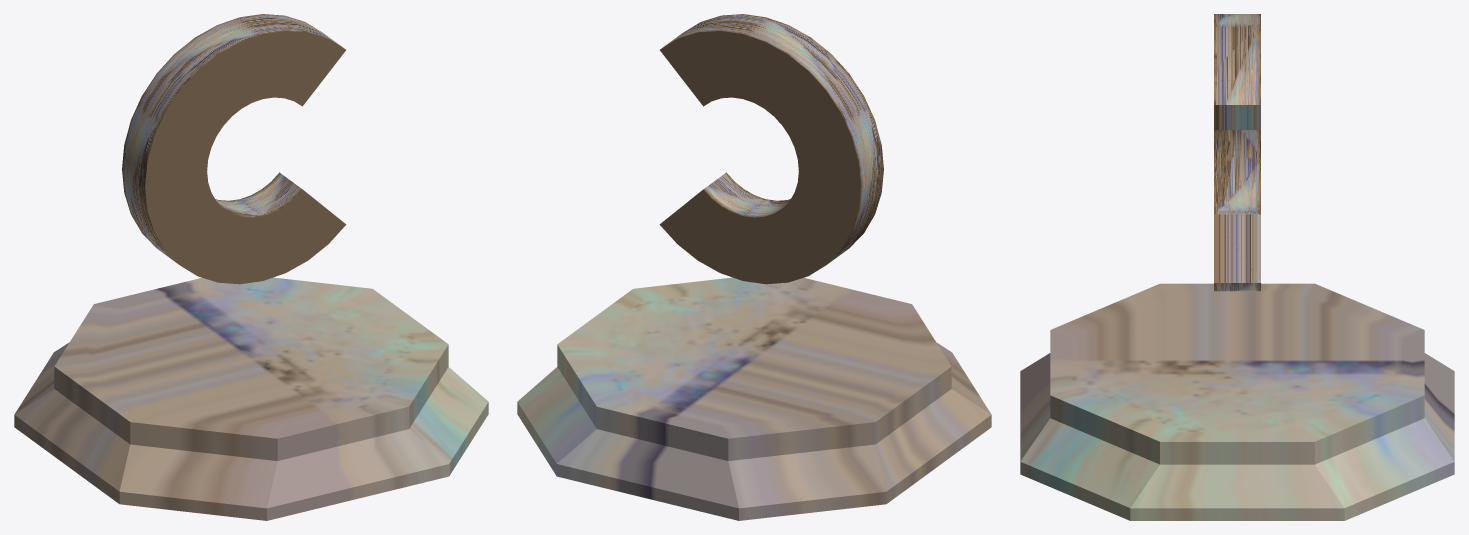
Rendered from SbS_CheckPoint.fbx.
3 renders of one model, left to right at view 1: azimuth 30°, elevation 25°; view 2: azimuth 150°, elevation 25°; view 3: azimuth 270°, elevation 25°, orthographic.
Parts seen in each view (by area): view 1: LDK_Floor1, obj4; view 2: LDK_Floor1, obj4; view 3: LDK_Floor1, obj4.
Part boxes in pixels (bbox=[...]): LDK_Floor1: bbox=[14, 277, 488, 520]; obj4: bbox=[122, 14, 346, 284]; LDK_Floor1: bbox=[517, 277, 991, 520]; obj4: bbox=[659, 14, 883, 284]; LDK_Floor1: bbox=[1020, 283, 1454, 520]; obj4: bbox=[1214, 14, 1260, 291].
Bounding box in the file's own units: 158 × 162 × 158.
